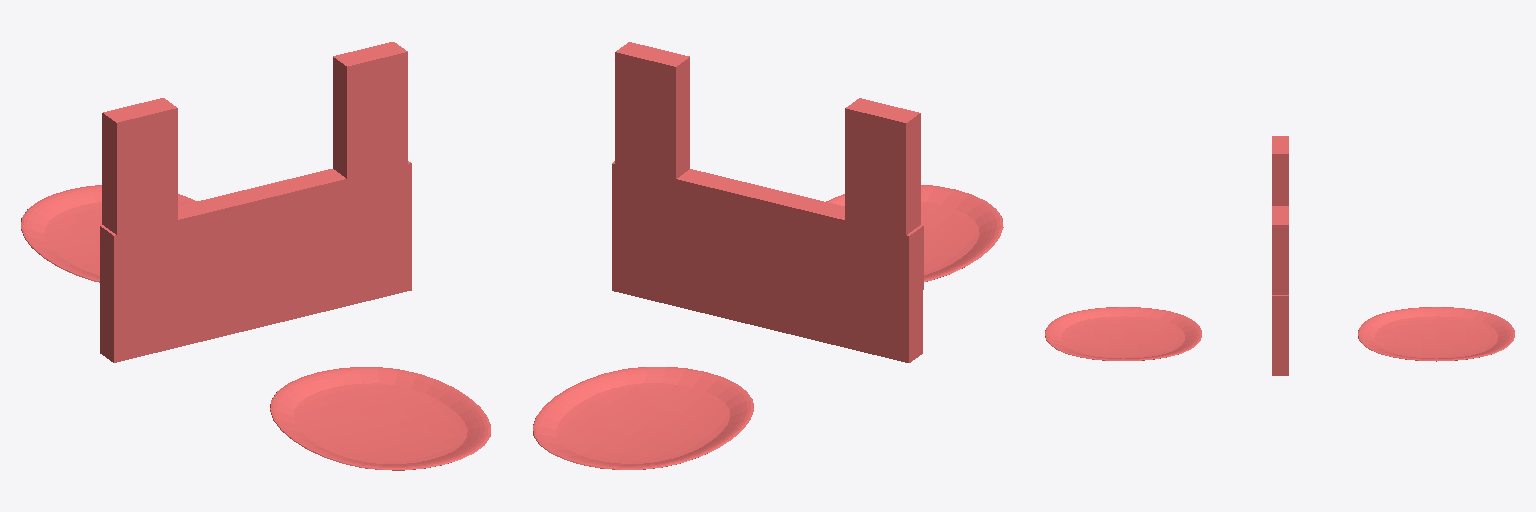
robot.urdf — shelfandtable:
<?xml version="1.0" ?>
<robot name="shelfandtable">
  <link name="shelfandtableLink">
  <contact>
      <lateral_friction value="1"/>
  </contact>
    <inertial>
      <origin rpy="0 0 0" xyz="0 0 0"/>
       <mass value=".0"/>
       <inertia ixx="0" ixy="0" ixz="0" iyy="0" iyz="0" izz="0"/>
    </inertial>
    <visual>
      <origin rpy="1.5707 0 1.5707" xyz="0 0 -0.1"/>
      <geometry>
				<mesh filename="obstacle.obj" scale="0.3 0.3 0.3"/>
      </geometry>
       <material name="red">
        <color rgba="1 0.5 0.5 1"/>
      </material>
    </visual>
    <collision>
      <origin rpy="1.5707 0 1.5707" xyz="0 0 -0.1"/>
      <geometry>
		<mesh filename="obstacle.obj" scale="0.3 0.3 0.3"/>
      </geometry>
    </collision>
  </link>
</robot>

--- Render facts (derived) ---
Views: 3 orthographic renders of the robot side by side, from view 1: azimuth 30°, elevation 25°; view 2: azimuth 150°, elevation 25°; view 3: azimuth 270°, elevation 25°.
Robot: shelfandtable — 1 links, 0 joints (none); root link shelfandtableLink; default pose: all joints at 0.
Visible links, largest first — view 1: shelfandtableLink; view 2: shelfandtableLink; view 3: shelfandtableLink.
Link boxes in pixels (left/top/right/bottom): shelfandtableLink: left=21, top=42, right=490, bottom=470; shelfandtableLink: left=533, top=42, right=1003, bottom=469; shelfandtableLink: left=1045, top=136, right=1514, bottom=375.
Size in the robot's own frame: 0.4072 by 0.8889 by 0.3472 metres.
Meshes: 1 distinct files referenced, 1 mesh visuals loaded (1 OBJ).